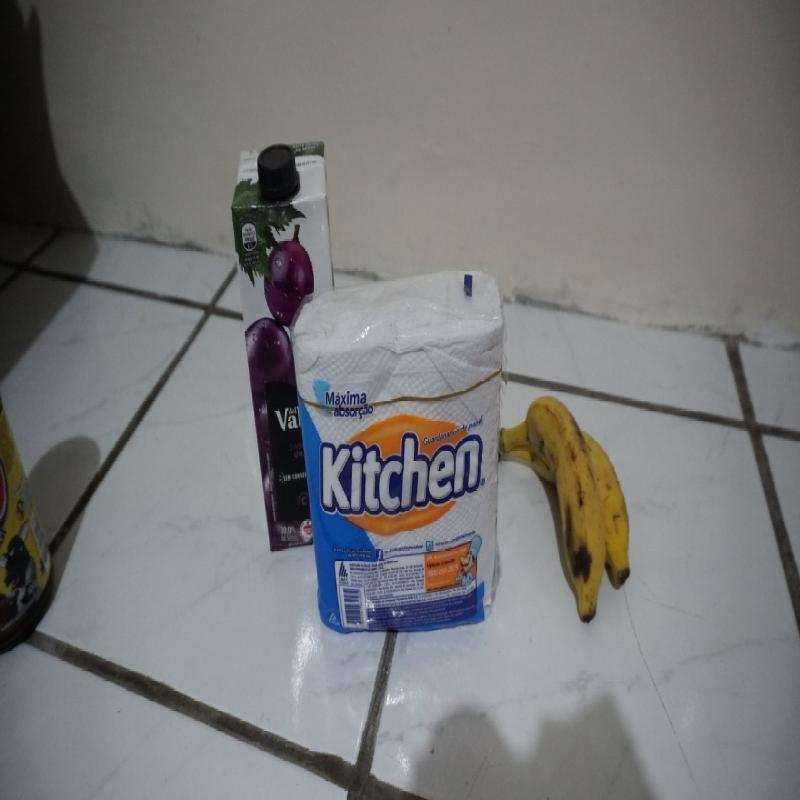Banana: (498, 393, 632, 626)
Chocolate Powder: (1, 380, 56, 676)
Napkin: (289, 265, 504, 637)
